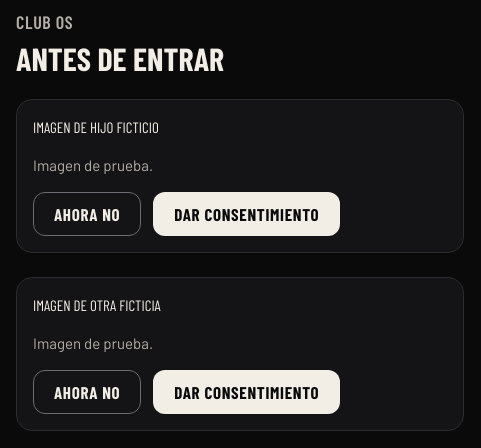
Test: ConsentScreen › con dos tutelas pendientes, resolver una deja la otra
Click the button "Dar consentimiento" below "Hijo": (247, 214) [153,192,340,236]
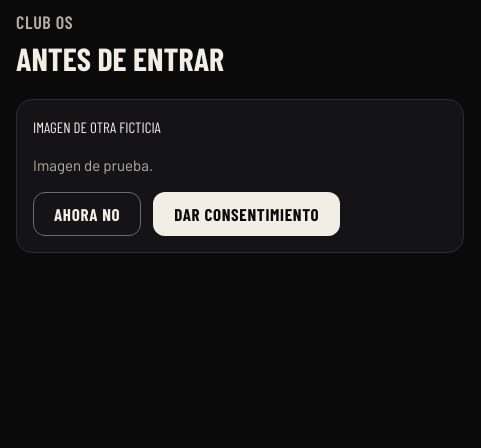
Expected: the heading "Imagen de Otra Ficticia" is shown, [33,118,161,136]
Now the heading "Imagen de Hijo Ficticio" is gone
